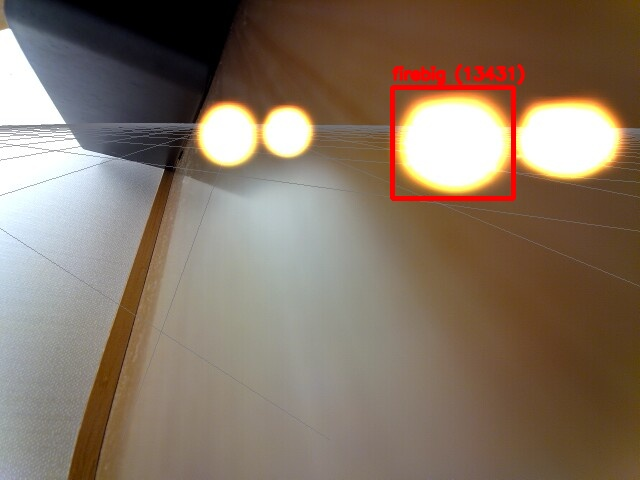firebig: (392, 87, 513, 198)
